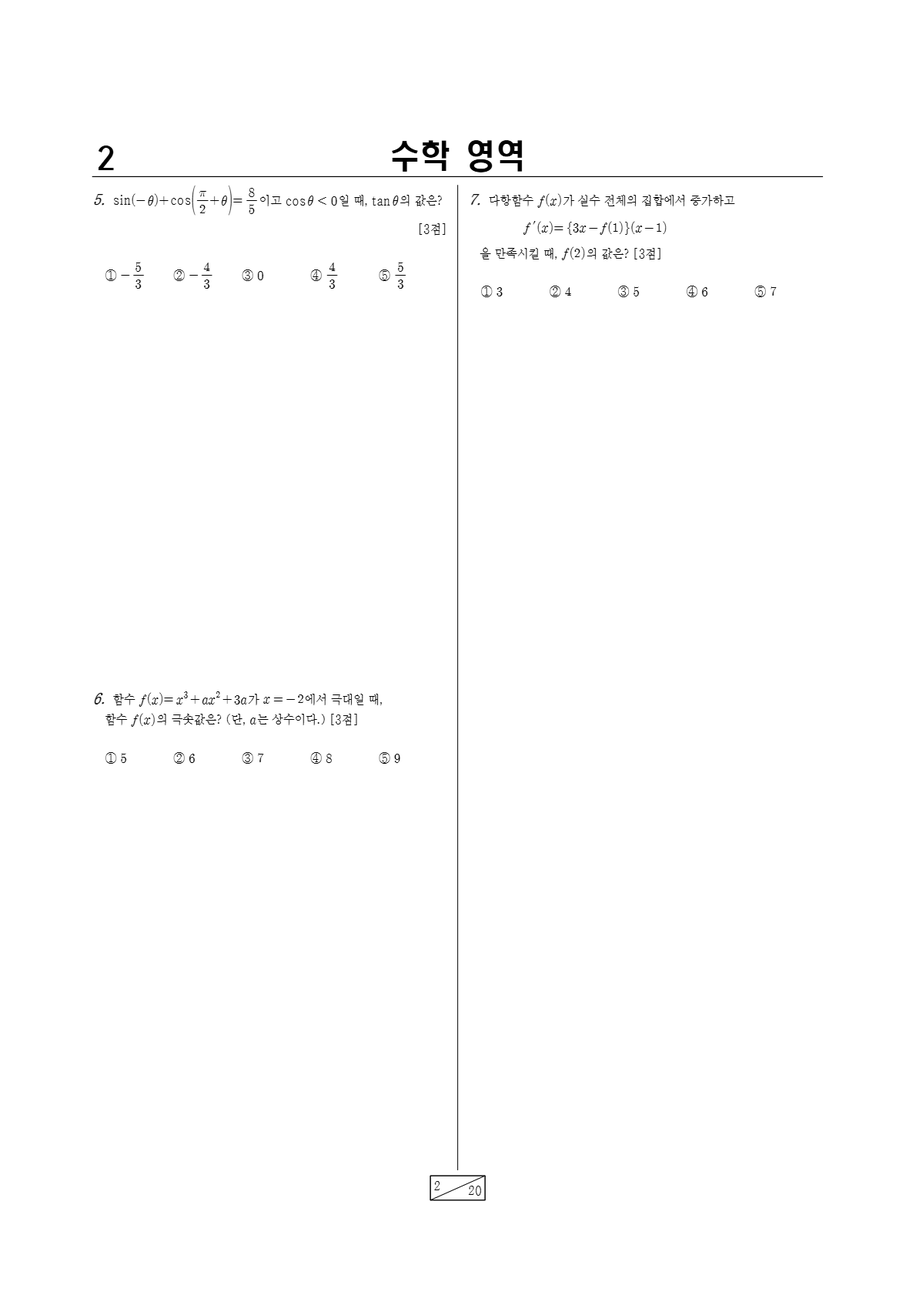opt_1: (102, 265, 117, 283), (104, 750, 116, 765), (480, 284, 492, 298)
opt_2: (172, 267, 186, 282), (172, 751, 185, 765), (549, 284, 561, 299)
opt_3: (617, 284, 630, 298), (241, 750, 253, 765), (242, 267, 253, 282)
opt_4: (309, 267, 322, 282), (309, 751, 322, 765), (686, 284, 698, 299)
opt_5: (754, 284, 766, 298), (379, 268, 390, 282), (379, 751, 390, 765)
